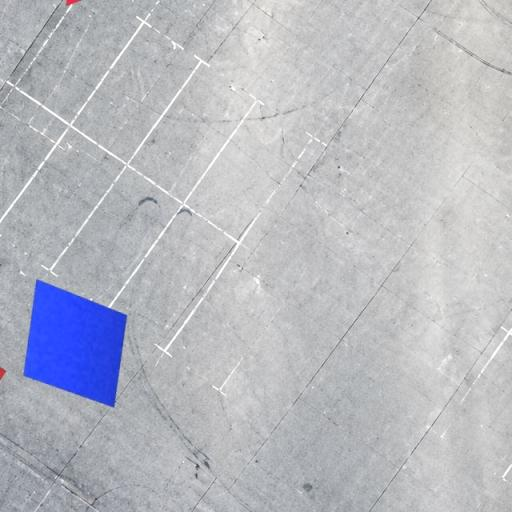BLUE_SQUARE: (22, 278, 128, 408)
